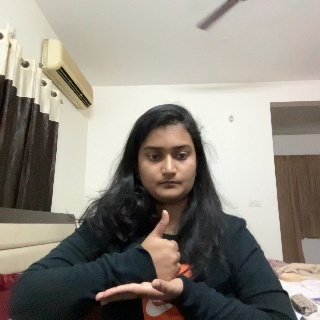Face: (137, 113, 198, 205)
Help: (95, 211, 194, 302)
